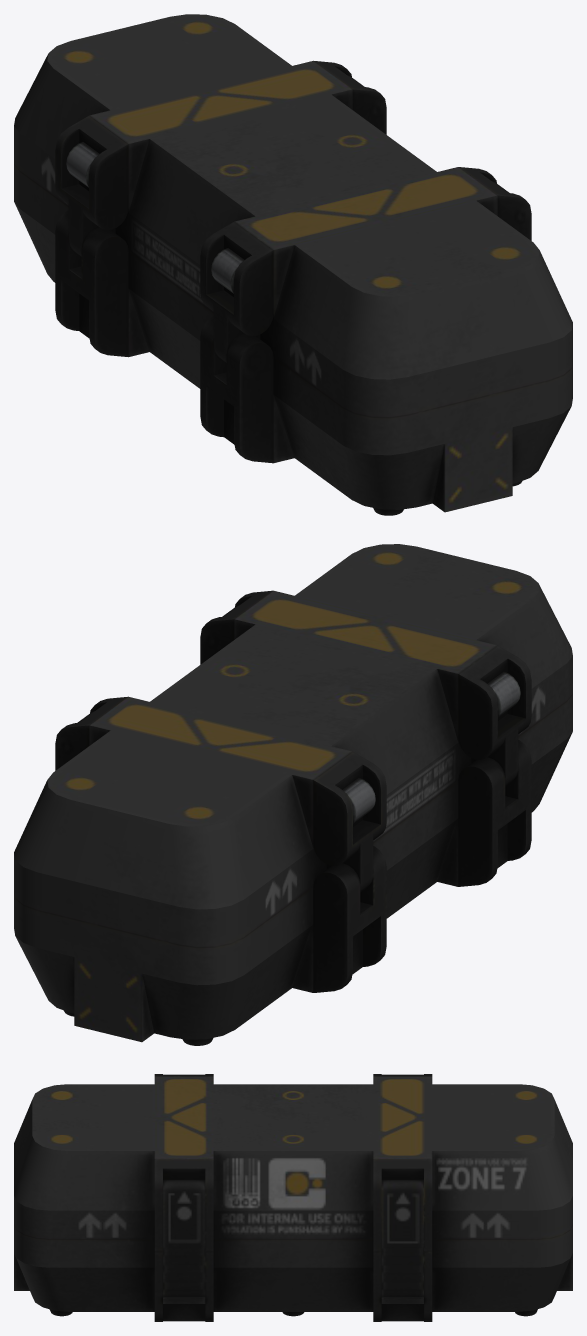
File: Lootbox.fbx
3 renders of one model, top to bottom at view 1: azimuth 30°, elevation 25°; view 2: azimuth 150°, elevation 25°; view 3: azimuth 270°, elevation 25°, orthographic. The views are drawn at different scales.
Visible parts, largest first — view 1: Scifi Utility Case; view 2: Scifi Utility Case; view 3: Scifi Utility Case.
Part boxes in pixels (x1,y1,x2,y2): Scifi Utility Case: (14,14,572,515); Scifi Utility Case: (14,544,572,1045); Scifi Utility Case: (14,1074,572,1321).
Size of the model in its own units: 27.11 by 19.97 by 58.95.
1 material, 1 textured.
